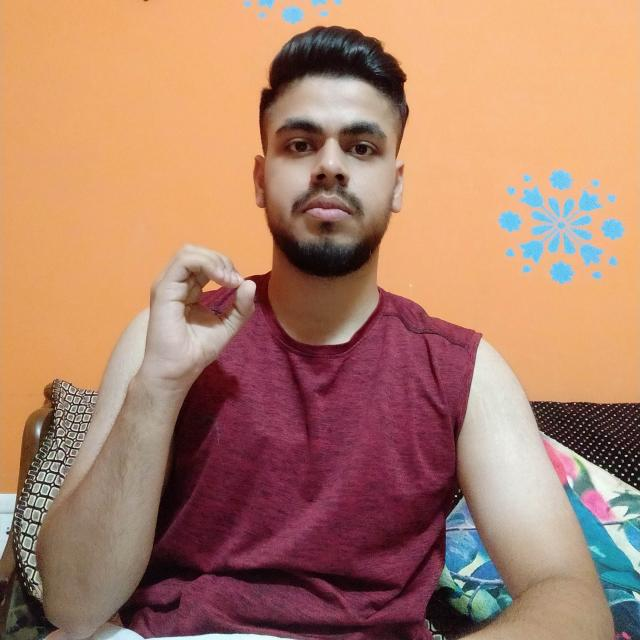O: (131, 240, 265, 388)
